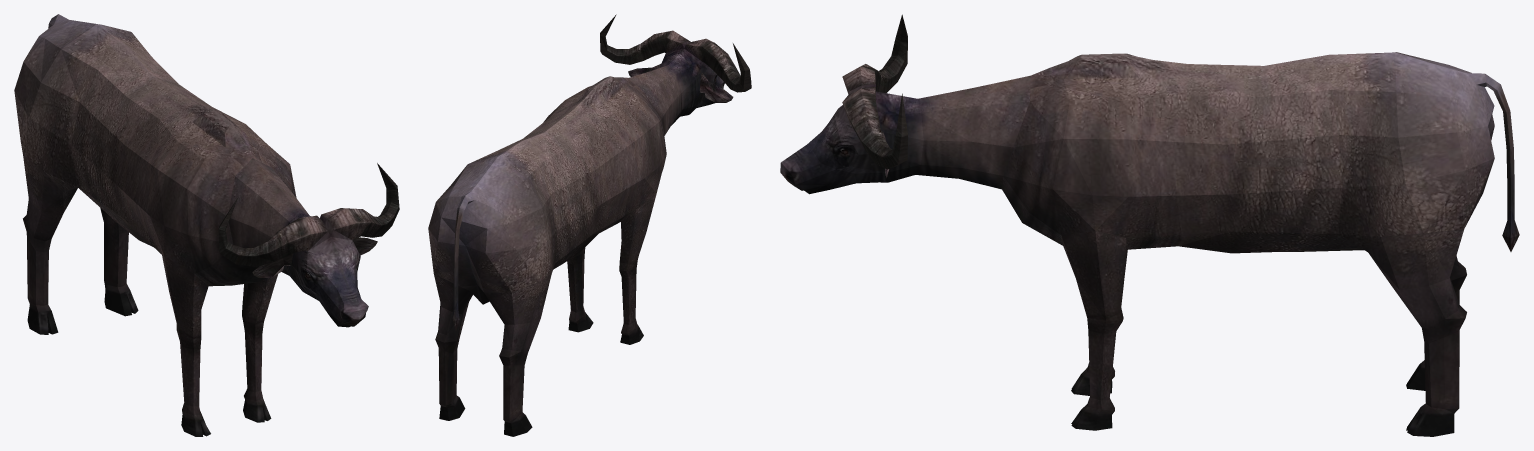
The model's file is kerbau4.glb.
3 views of the same model, side by side, from view 1: azimuth 30°, elevation 25°; view 2: azimuth 150°, elevation 25°; view 3: azimuth 270°, elevation 25° (orthographic). The views are drawn at different scales.
Visible parts, largest first — view 1: B0L298WJBWERWD769WZD9B5NE; view 2: B0L298WJBWERWD769WZD9B5NE; view 3: B0L298WJBWERWD769WZD9B5NE.
Part boxes in pixels (<box>): B0L298WJBWERWD769WZD9B5NE: <box>14,14,399,436</box>; B0L298WJBWERWD769WZD9B5NE: <box>428,14,751,436</box>; B0L298WJBWERWD769WZD9B5NE: <box>780,14,1519,436</box>.
Bounding box in the file's own units: 0.2754 × 0.4441 × 0.8373.
1 material, 1 textured.
